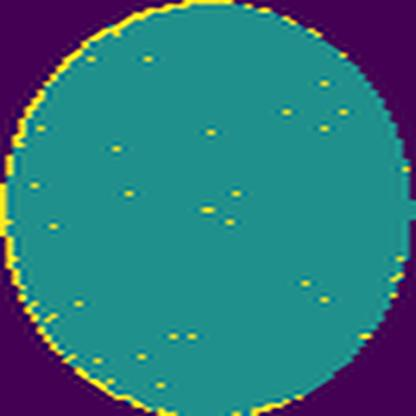Edge-Ring: (0, 0, 239, 416)
